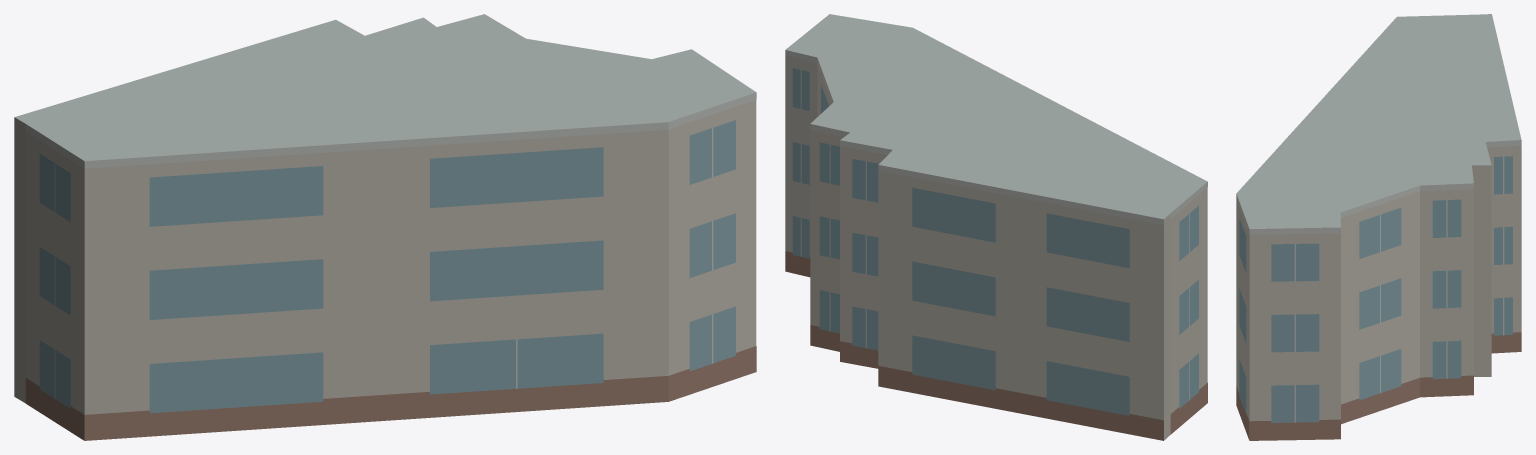
File: survey-upis-32917317.glb
3 views of the same model, side by side, from view 1: azimuth 30°, elevation 25°; view 2: azimuth 150°, elevation 25°; view 3: azimuth 270°, elevation 25° (orthographic). The views are drawn at different scales.
Visible parts, largest first — view 1: survey-upis-32917317.tmp; view 2: survey-upis-32917317.tmp; view 3: survey-upis-32917317.tmp.
Boxes of the visible parts, x1,y1,x2,y2 form: survey-upis-32917317.tmp: (14,14,756,440); survey-upis-32917317.tmp: (785,14,1207,440); survey-upis-32917317.tmp: (1236,14,1521,440).
Size of the model in its own units: 19.83 by 9.1 by 11.12.
